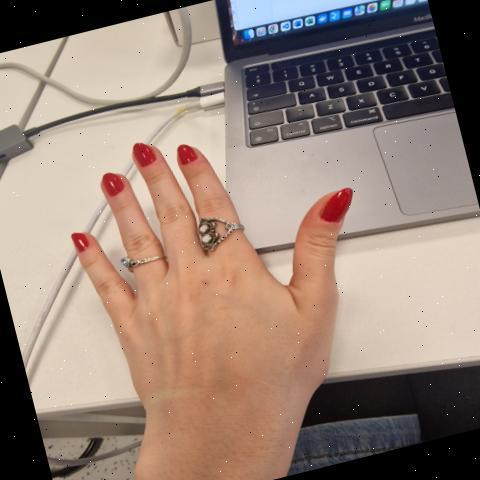Hands: (41, 126, 401, 452)
